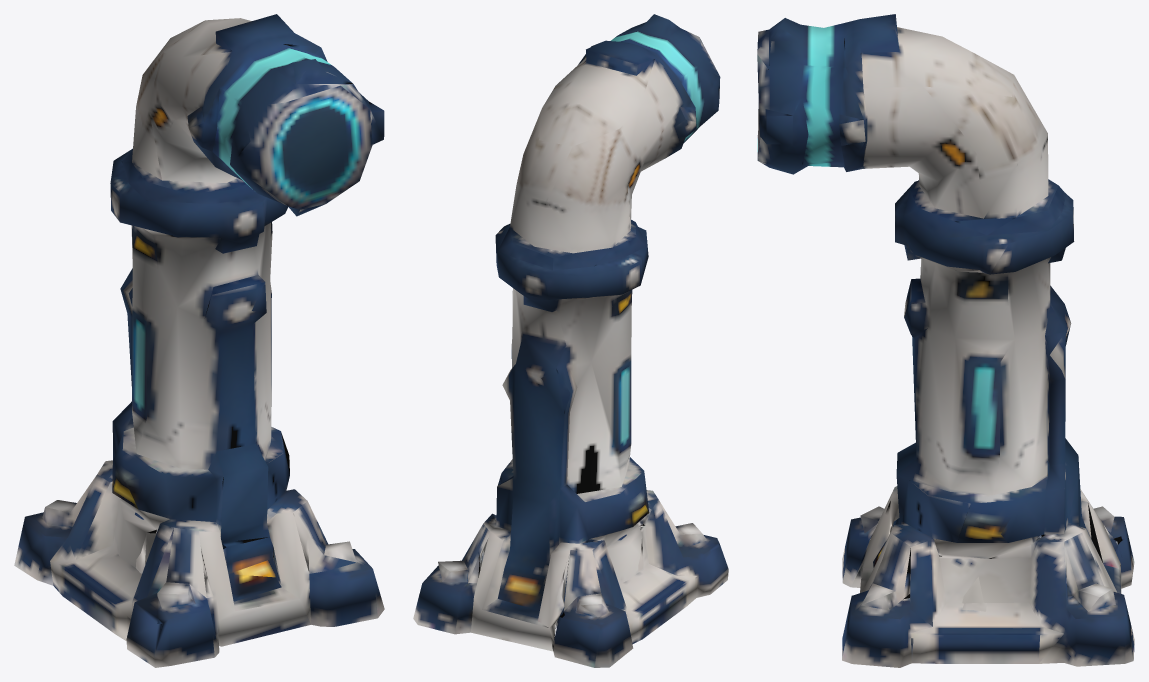
File: cryo-pipe-riser_LOD1.glb
3 renders of one model, left to right at view 1: azimuth 30°, elevation 25°; view 2: azimuth 150°, elevation 25°; view 3: azimuth 270°, elevation 25°, orthographic. The views are drawn at different scales.
Parts seen in each view (by area): view 1: cryo-pipe-riser_LOD1; view 2: cryo-pipe-riser_LOD1; view 3: cryo-pipe-riser_LOD1.
Part boxes in pixels (bbox=[...]): cryo-pipe-riser_LOD1: bbox=[14, 14, 384, 667]; cryo-pipe-riser_LOD1: bbox=[413, 14, 728, 667]; cryo-pipe-riser_LOD1: bbox=[757, 14, 1134, 667].
Size of the model in its own units: 0.7395 by 1.8 by 1.04.
Materials: 1 (1 with a texture image).
